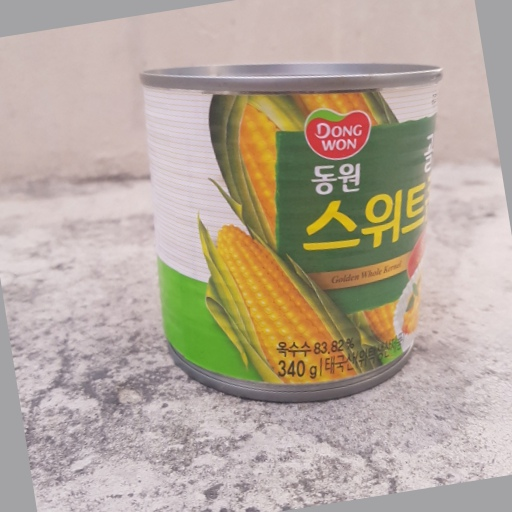Metal_1: (136, 59, 445, 400)
